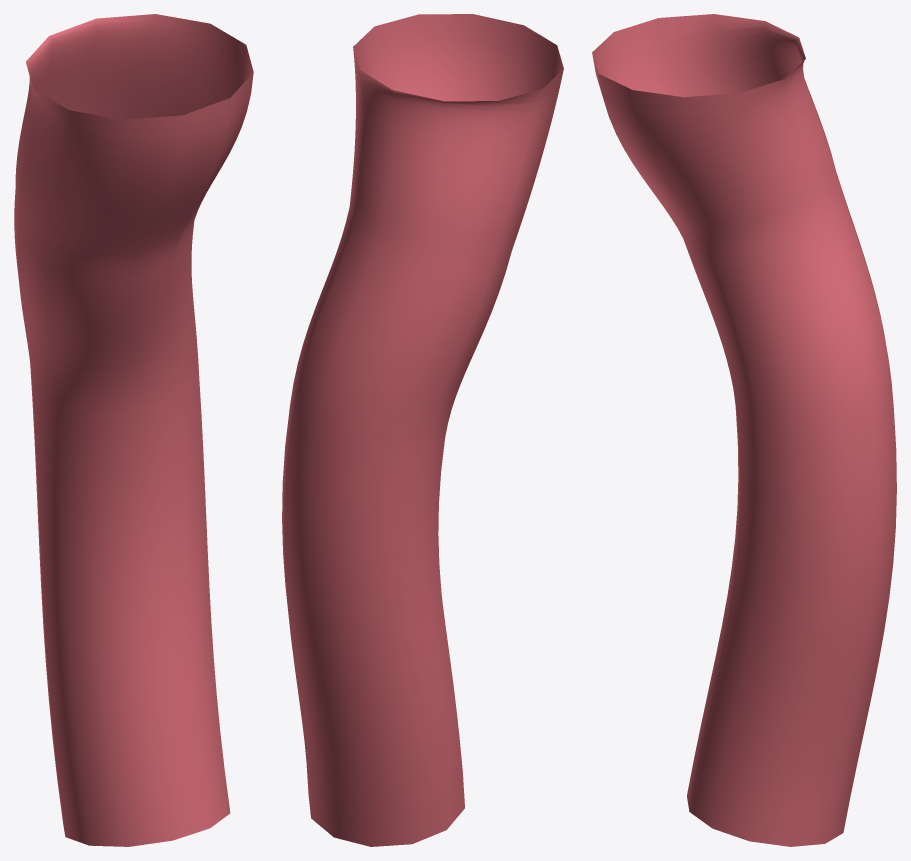
The picture shows the model from 3 angles, left to right: view 1: azimuth 30°, elevation 25°; view 2: azimuth 150°, elevation 25°; view 3: azimuth 270°, elevation 25°; orthographic projection. The views are drawn at different scales.
Parts seen in each view (by area): view 1: ZA_f915f2f868bb41c4; view 2: ZA_f915f2f868bb41c4; view 3: ZA_f915f2f868bb41c4.
Boxes of the visible parts, x1,y1,x2,y2 form: ZA_f915f2f868bb41c4: (14,14,253,846); ZA_f915f2f868bb41c4: (282,14,563,846); ZA_f915f2f868bb41c4: (592,14,896,846).
Bounding box in the file's own units: 0.0259 × 0.0928 × 0.0339.
